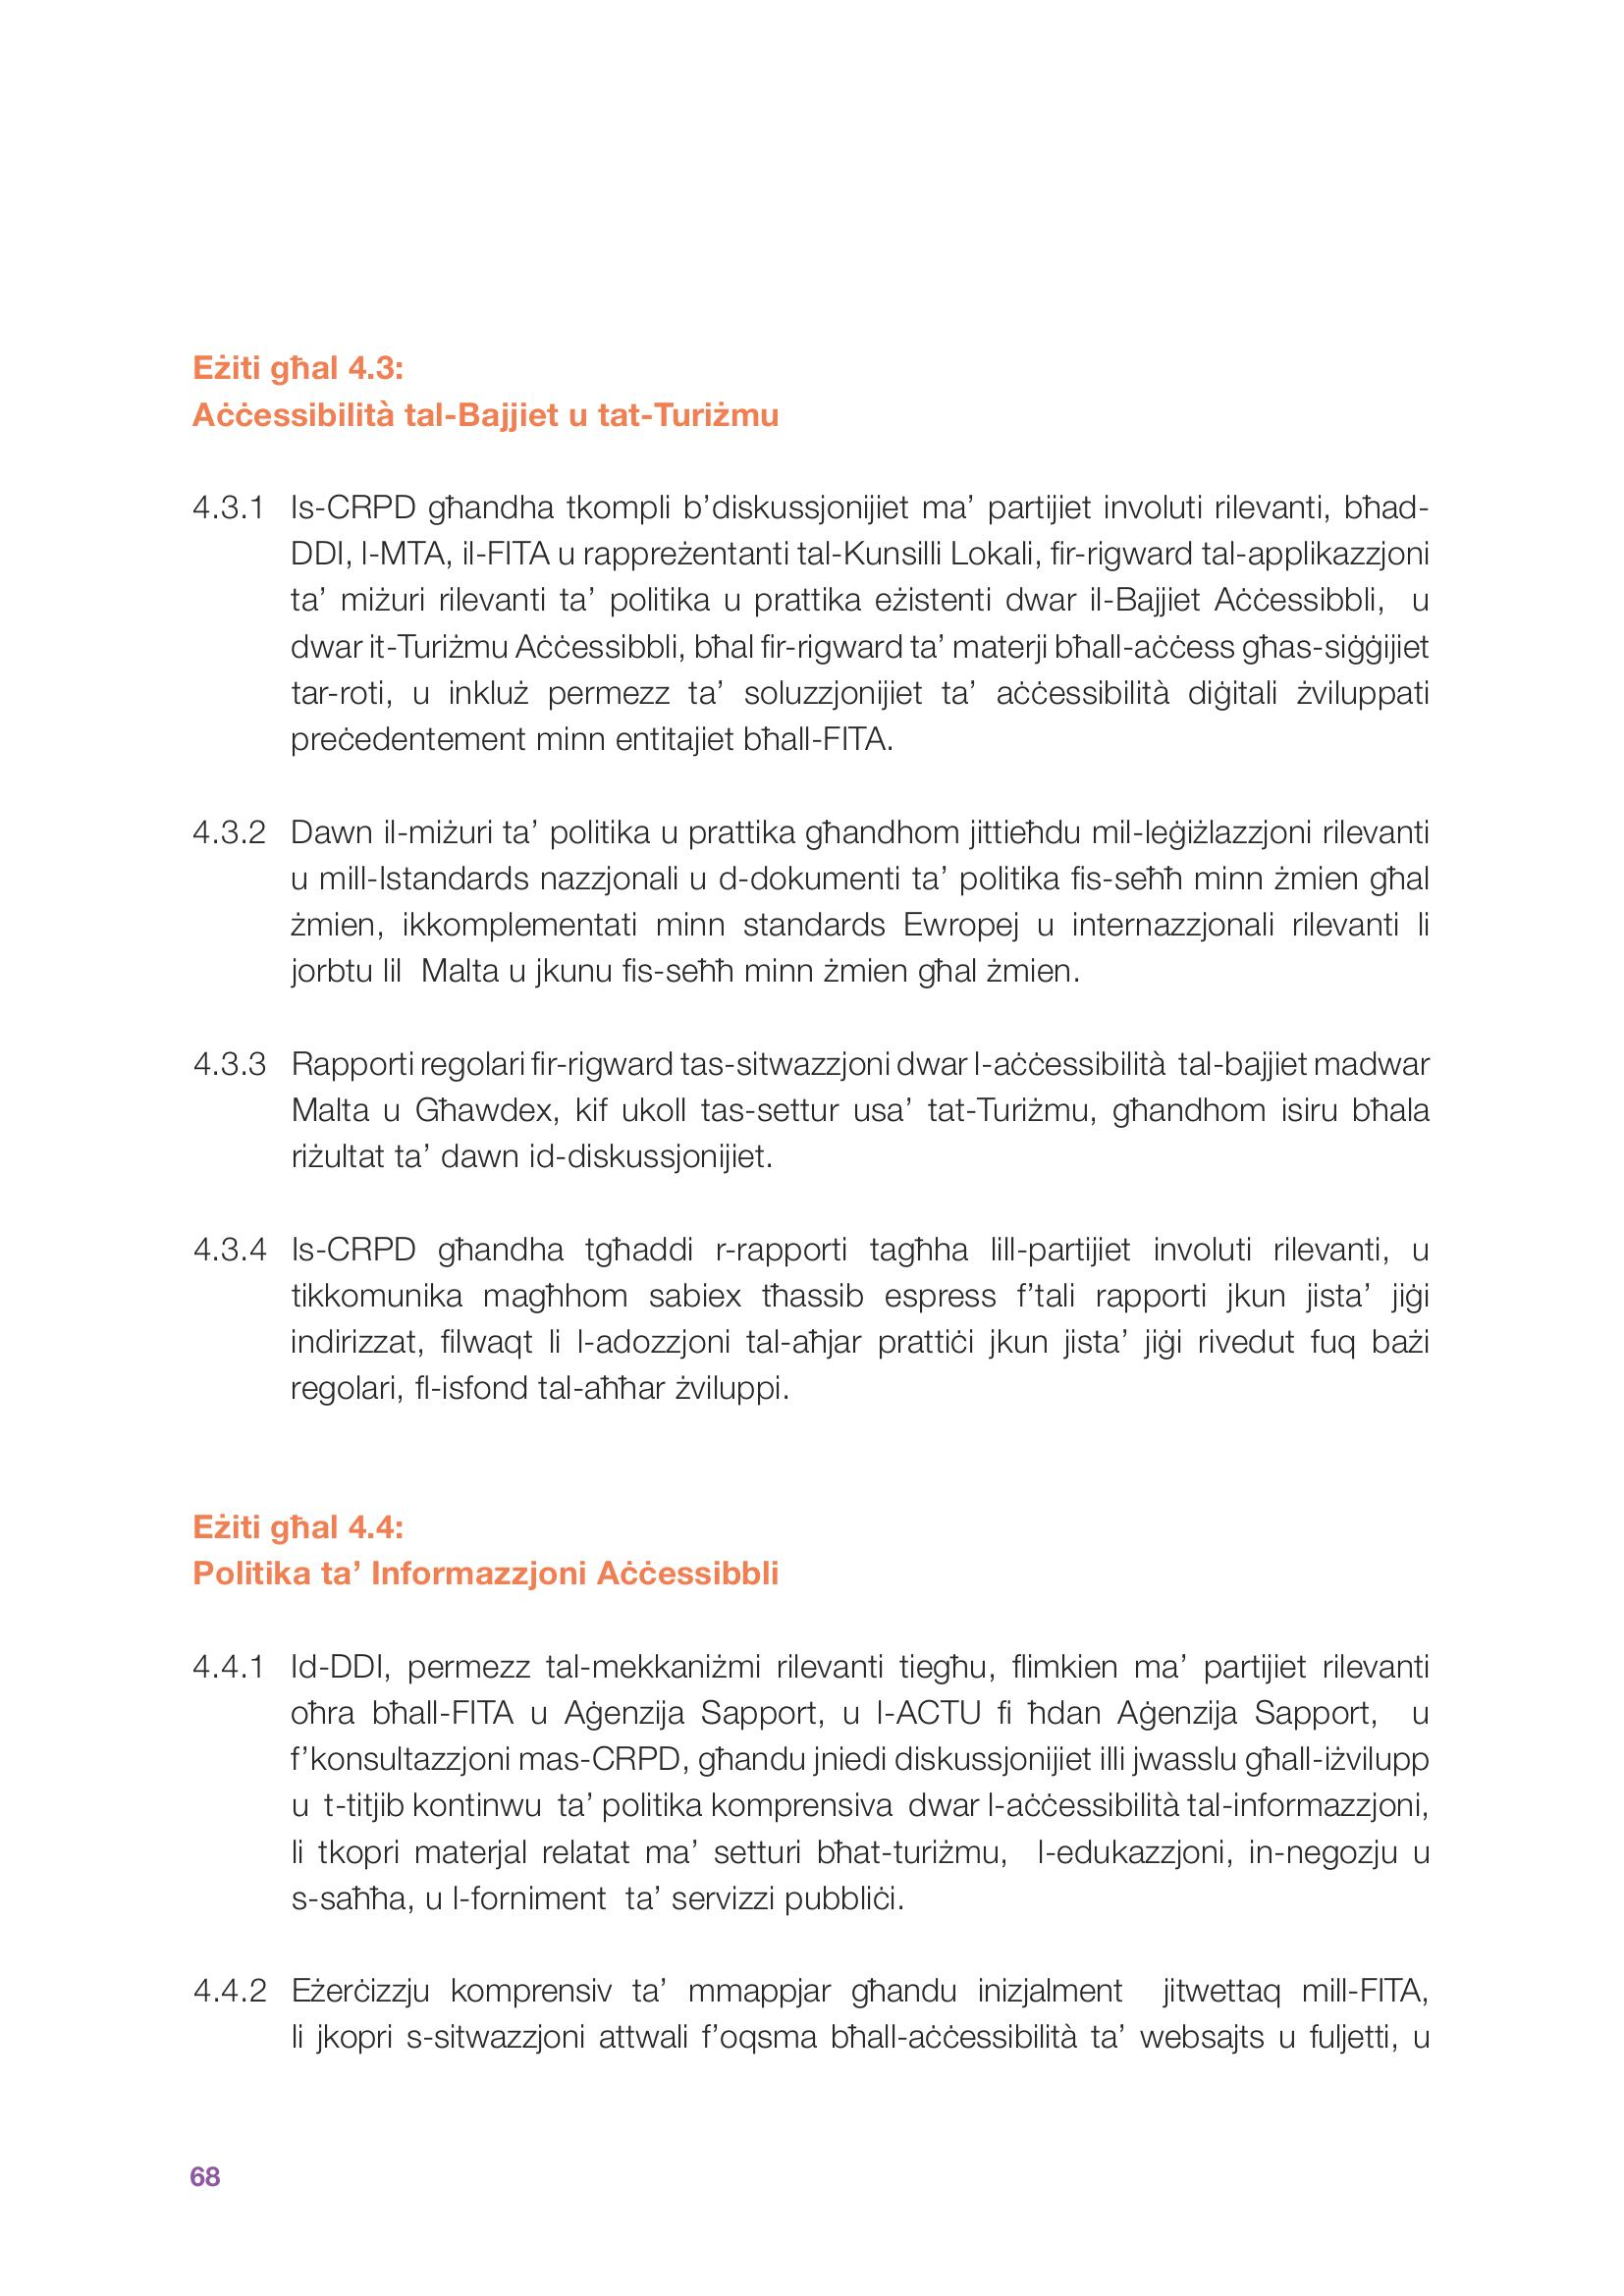text: (148, 339, 1475, 2110)
